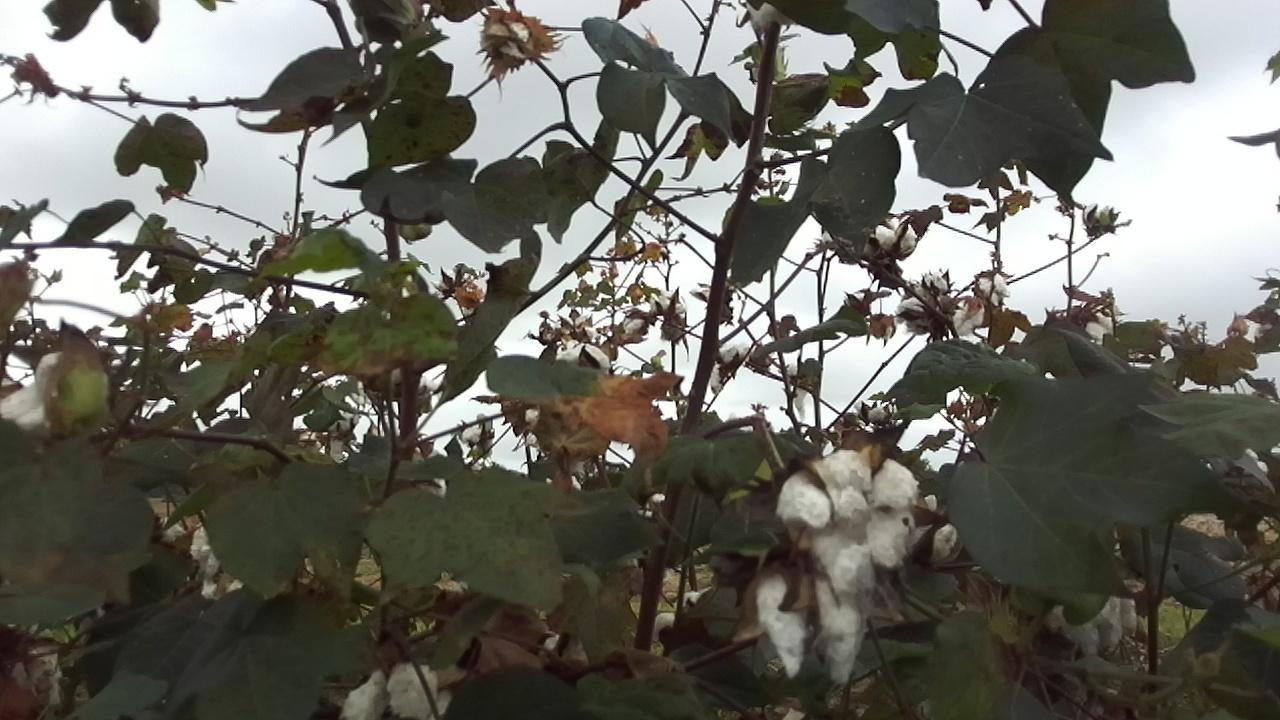cotton_ready: (772, 445, 922, 593), (754, 575, 868, 686), (339, 664, 449, 720), (1049, 593, 1140, 659), (0, 344, 65, 429)
